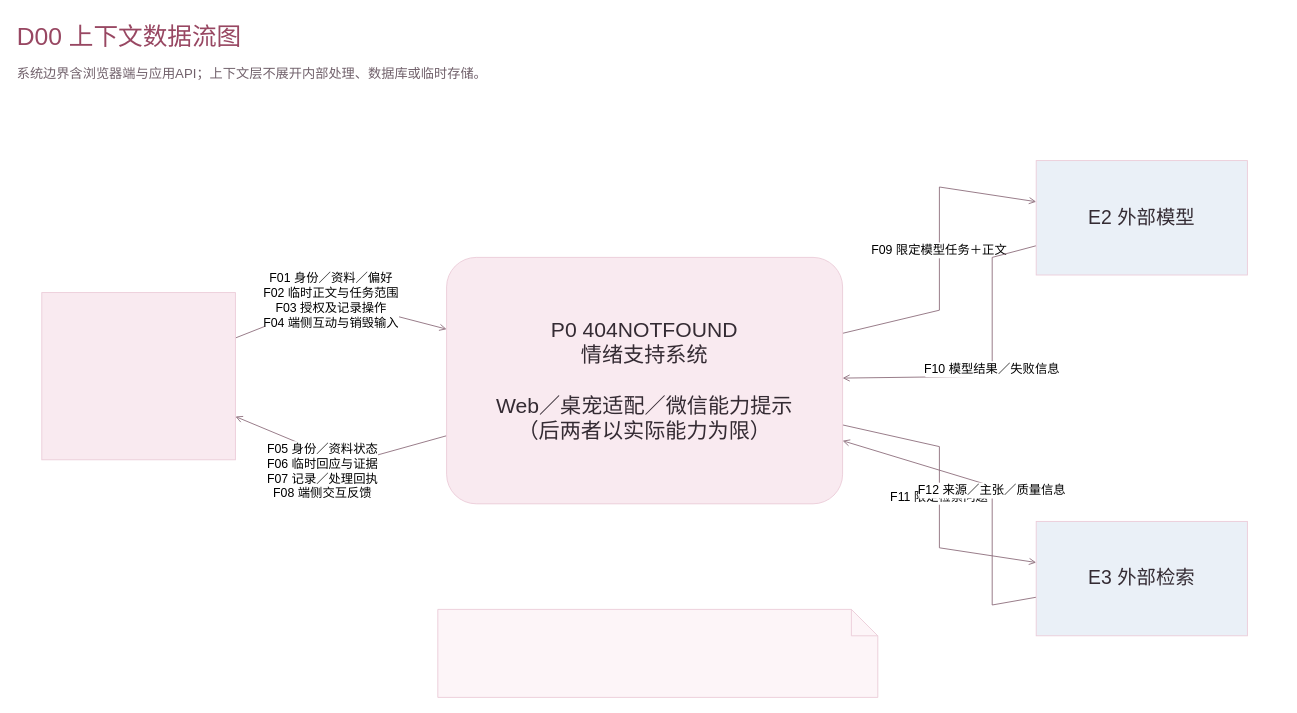
Image size: 1297x713. Some labels were removed from this diagram. The shapes that lost their labels are listed below. From the top down, each one's centre as x and y in pixels, then its label:
At (x=138, y=376): "E1 用户".
At (x=657, y=653): "外发前分别确认AI_PROCESS／SEARCH_PROCESS。 端侧互动与独立销毁正文不流向外部服务。".
